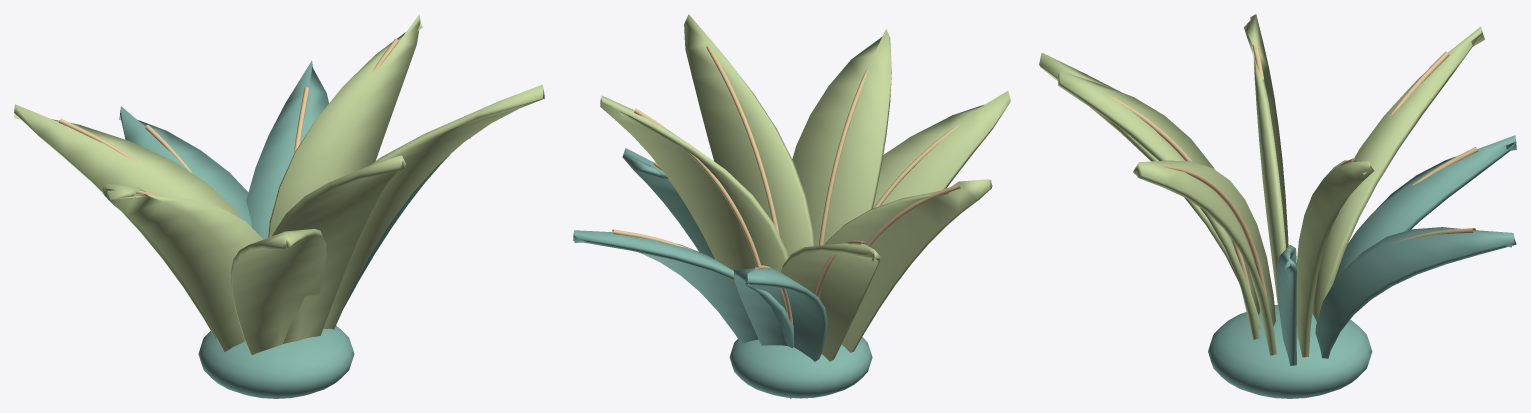
File: bio_mist_leaf_06_near.glb
3 renders of one model, left to right at view 1: azimuth 30°, elevation 25°; view 2: azimuth 150°, elevation 25°; view 3: azimuth 270°, elevation 25°, orthographic. The views are drawn at different scales.
Parts seen in each view (by area): view 1: Cupped condensate leaf.008, Cupped condensate leaf.004, Cupped condensate leaf.007, Cupped condensate leaf.002, Cupped condensate leaf.001, Root rosette, Cupped condensate leaf.005, Cupped condensate leaf.003, Cupped condensate leaf.006, Cupped condensate leaf; view 2: Cupped condensate leaf.002, Cupped condensate leaf.005, Cupped condensate leaf.008, Cupped condensate leaf.004, Cupped condensate leaf.007, Root rosette, Cupped condensate leaf.003, Cupped condensate leaf.001, Cupped condensate leaf.006, Cupped condensate leaf, Central leaf rib.005, Central leaf rib.002 (+3 smaller); view 3: Root rosette, Cupped condensate leaf.003, Cupped condensate leaf.001, Cupped condensate leaf.005, Cupped condensate leaf.002, Cupped condensate leaf.006, Cupped condensate leaf.008, Cupped condensate leaf.004, Cupped condensate leaf, Cupped condensate leaf.007, Central leaf rib.005, Central leaf rib.002 (+1 smaller).
Part boxes in pixels (box(x1,y1,x2,y2)): Cupped condensate leaf.008: box(267, 14, 422, 237); Cupped condensate leaf.004: box(102, 183, 263, 351); Cupped condensate leaf.007: box(230, 229, 326, 354); Cupped condensate leaf.002: box(272, 155, 405, 343); Cupped condensate leaf.001: box(14, 104, 241, 337); Root rosette: box(198, 325, 354, 398); Cupped condensate leaf.005: box(323, 84, 544, 329); Cupped condensate leaf.003: box(246, 60, 328, 239); Cupped condensate leaf.006: box(119, 106, 251, 227); Cupped condensate leaf: box(343, 138, 470, 308); Cupped condensate leaf.002: box(792, 29, 891, 245); Cupped condensate leaf.005: box(684, 14, 814, 257); Cupped condensate leaf.008: box(600, 95, 788, 272); Cupped condensate leaf.004: box(824, 179, 992, 352); Cupped condensate leaf.007: box(873, 91, 1010, 208); Root rosette: box(729, 337, 872, 398); Cupped condensate leaf.003: box(573, 230, 794, 347); Cupped condensate leaf.001: box(781, 243, 881, 398); Cupped condensate leaf.006: box(734, 267, 827, 398); Cupped condensate leaf: box(622, 148, 714, 259); Central leaf rib.005: box(706, 45, 779, 235); Central leaf rib.002: box(819, 67, 867, 245); Root rosette: box(1208, 305, 1372, 398); Cupped condensate leaf.003: box(1315, 227, 1516, 358); Cupped condensate leaf.001: box(1312, 26, 1484, 321); Cupped condensate leaf.005: box(1133, 160, 1276, 355); Cupped condensate leaf.002: box(1058, 71, 1259, 339); Cupped condensate leaf.006: box(1333, 135, 1516, 282); Cupped condensate leaf.008: box(1296, 160, 1374, 357); Cupped condensate leaf.004: box(1244, 14, 1288, 308); Cupped condensate leaf: box(1276, 244, 1296, 365); Cupped condensate leaf.007: box(1039, 53, 1261, 328); Central leaf rib.005: box(1163, 164, 1267, 301); Central leaf rib.002: box(1109, 95, 1251, 294).
Size of the model in its own units: 1.72 by 1.3 by 1.74.
